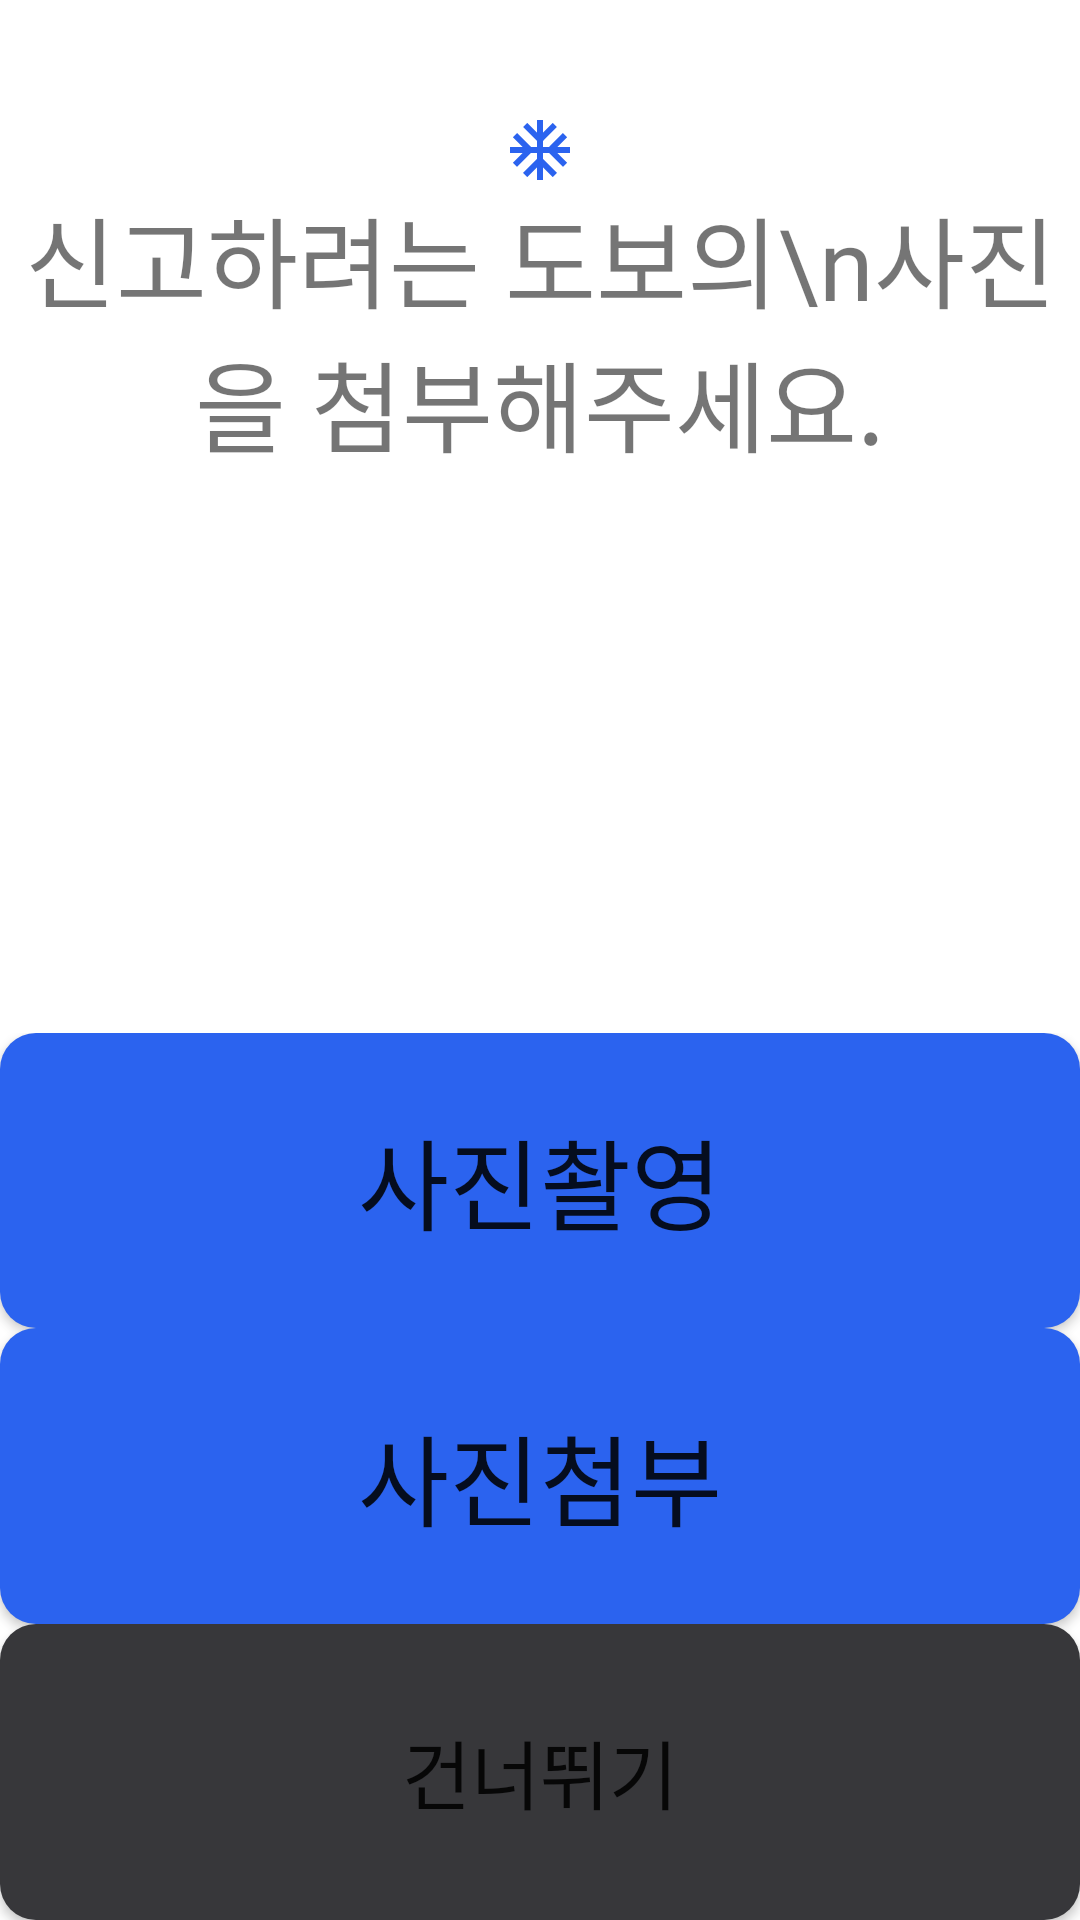

Where to tap for icons on this 1080px×1920px app screen, as point (x, y):
ac unit: point (540, 150)
